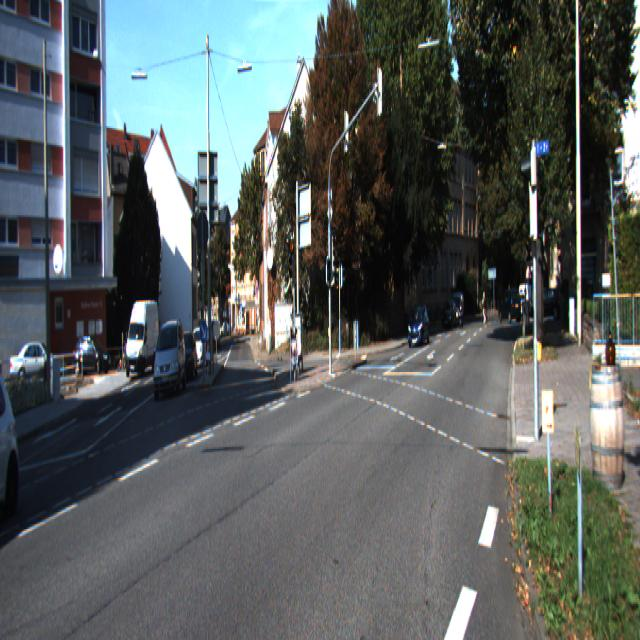Car: (0, 361, 25, 534), (153, 316, 187, 401), (9, 344, 61, 392), (407, 305, 431, 349)
DontCare: (0, 338, 24, 524), (494, 274, 564, 331), (186, 308, 222, 390), (69, 331, 114, 378), (441, 288, 456, 331)
Misc: (458, 293, 465, 327)
Van: (125, 298, 160, 379)
